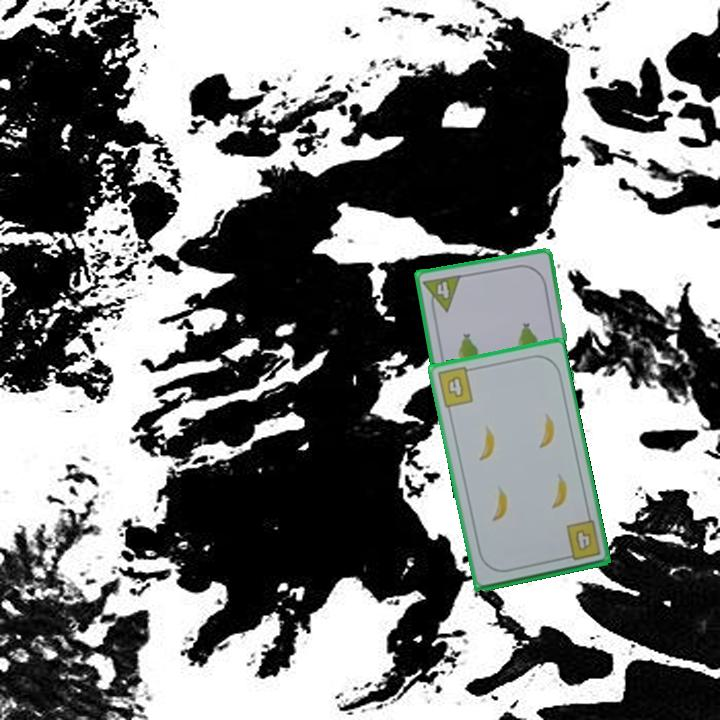4b: (559, 517, 604, 563), (433, 363, 477, 410)
4p: (420, 271, 464, 316)
